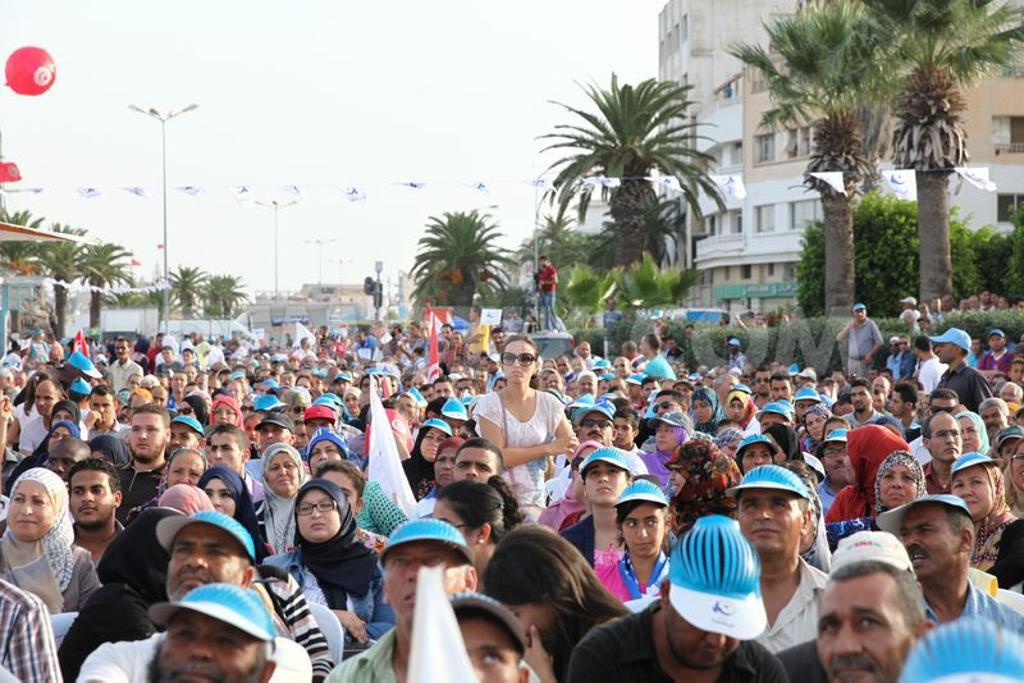face: (818, 595, 916, 683), (157, 607, 263, 683), (386, 539, 466, 621), (669, 583, 745, 668), (168, 532, 244, 612), (427, 631, 519, 683), (740, 486, 802, 549), (899, 515, 959, 579), (434, 509, 491, 569), (492, 587, 547, 644), (8, 486, 54, 536), (454, 454, 498, 504), (313, 480, 356, 531), (622, 508, 665, 558), (952, 471, 996, 518), (70, 479, 113, 525), (585, 459, 628, 504), (879, 464, 918, 509), (296, 496, 338, 536), (573, 453, 612, 494), (199, 485, 237, 525), (169, 462, 205, 500), (825, 438, 858, 479), (435, 449, 469, 487), (502, 344, 536, 382), (931, 420, 964, 459), (310, 440, 341, 479), (260, 421, 291, 460), (131, 419, 164, 455), (670, 460, 702, 496), (165, 427, 198, 460), (742, 446, 773, 480), (210, 442, 240, 477), (267, 458, 298, 491), (951, 423, 981, 454), (761, 417, 790, 449), (582, 414, 612, 444), (715, 439, 744, 470), (307, 415, 334, 447), (421, 428, 449, 458), (930, 401, 957, 430), (653, 400, 682, 426), (656, 422, 681, 452), (825, 425, 850, 453), (797, 398, 821, 426), (1003, 441, 1024, 472), (52, 409, 76, 435), (981, 409, 1005, 435), (213, 404, 236, 431), (90, 398, 114, 423), (441, 416, 466, 440), (1011, 445, 1024, 491), (35, 388, 57, 415), (49, 430, 73, 454), (807, 414, 828, 439), (612, 421, 634, 444), (290, 401, 311, 425), (577, 379, 598, 402), (935, 338, 954, 363), (771, 383, 792, 405), (289, 428, 309, 451), (456, 383, 476, 406), (851, 389, 871, 412), (721, 379, 742, 400), (244, 422, 263, 444), (178, 404, 197, 426), (642, 383, 661, 405), (728, 401, 746, 424), (755, 374, 775, 394), (435, 387, 454, 408), (693, 401, 712, 422), (361, 379, 379, 400), (889, 393, 905, 416), (426, 414, 445, 433), (149, 393, 167, 413), (1000, 388, 1018, 408), (873, 382, 890, 400), (344, 394, 360, 413), (568, 382, 584, 401), (675, 384, 690, 404), (240, 402, 255, 422), (420, 391, 437, 408), (495, 382, 512, 399), (990, 380, 1006, 397), (599, 384, 614, 402), (226, 386, 242, 402), (127, 377, 143, 393), (208, 382, 223, 399), (989, 335, 1004, 352), (197, 380, 212, 396), (173, 375, 187, 392), (547, 376, 561, 393), (398, 401, 412, 418), (612, 382, 626, 399), (639, 337, 651, 356), (614, 361, 628, 377), (253, 385, 267, 401), (474, 371, 487, 388), (115, 344, 129, 359), (296, 381, 310, 396), (336, 379, 350, 394), (831, 373, 845, 388), (282, 375, 295, 391), (384, 381, 397, 397), (1012, 366, 1024, 383), (871, 397, 884, 412), (310, 377, 323, 392), (404, 382, 417, 397), (541, 373, 554, 388), (184, 368, 197, 382), (572, 361, 585, 375), (14, 376, 26, 391), (493, 334, 506, 347), (413, 381, 426, 394), (594, 367, 607, 380), (557, 360, 569, 374), (628, 381, 638, 397), (970, 340, 982, 353), (156, 373, 167, 387), (260, 375, 272, 387), (1014, 303, 1024, 317), (121, 410, 131, 424), (998, 300, 1009, 312), (231, 362, 242, 374), (528, 382, 539, 394), (580, 345, 590, 358), (898, 339, 908, 352), (890, 342, 900, 355), (856, 307, 866, 320), (880, 375, 891, 386), (336, 362, 347, 373), (303, 359, 314, 370), (325, 362, 336, 373), (982, 292, 992, 304), (904, 314, 914, 326), (452, 358, 462, 370), (490, 360, 500, 372), (211, 366, 221, 378), (464, 367, 474, 379), (120, 391, 130, 403), (469, 309, 478, 322), (162, 350, 172, 361), (801, 375, 811, 386), (452, 336, 462, 347), (442, 330, 452, 341), (246, 362, 256, 373), (392, 329, 401, 341), (622, 347, 631, 359), (256, 357, 266, 367), (868, 371, 877, 382), (969, 299, 978, 310), (919, 322, 928, 333), (903, 299, 912, 310), (319, 364, 328, 375), (372, 325, 381, 336), (157, 337, 165, 349), (184, 353, 193, 363), (667, 340, 676, 350), (480, 363, 489, 373), (410, 327, 419, 337), (931, 300, 940, 310), (942, 299, 951, 309), (729, 342, 738, 352), (289, 358, 298, 368), (362, 361, 371, 371), (991, 295, 999, 306), (686, 329, 695, 338), (275, 364, 284, 373), (37, 331, 46, 340), (920, 306, 928, 316), (960, 302, 968, 311), (306, 340, 313, 350), (771, 364, 779, 372), (608, 302, 615, 311), (46, 366, 53, 375), (97, 361, 103, 371), (742, 379, 749, 387), (349, 334, 356, 342), (269, 348, 276, 356), (346, 353, 353, 360), (541, 260, 547, 268), (322, 345, 327, 353), (320, 329, 325, 336)
